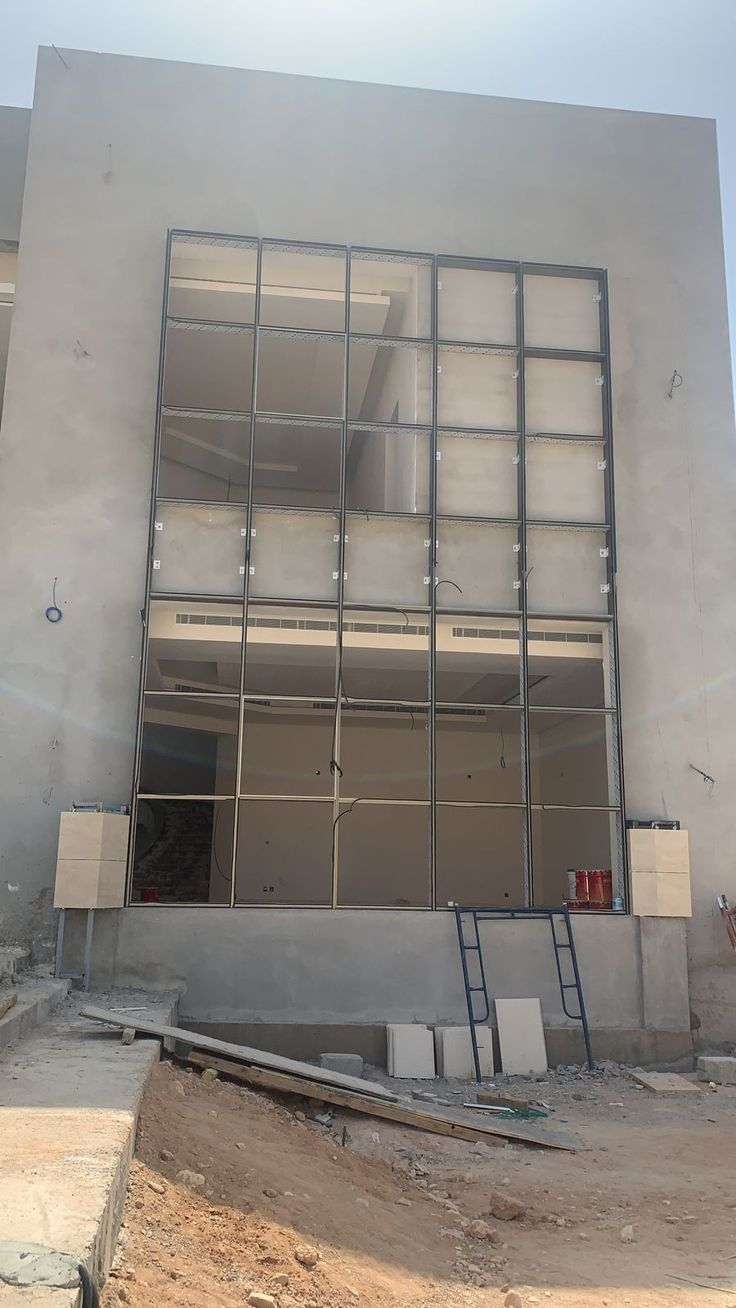glass panel: (132, 798, 234, 903), (235, 799, 332, 904), (139, 694, 237, 794), (336, 803, 430, 906), (531, 808, 622, 910), (145, 600, 241, 693), (436, 805, 523, 907), (240, 701, 333, 795), (244, 603, 335, 697), (529, 708, 616, 806), (152, 503, 245, 594), (339, 705, 428, 799), (158, 411, 249, 502), (436, 705, 520, 803), (162, 323, 252, 411), (249, 509, 337, 599), (341, 610, 428, 701), (253, 418, 340, 506), (167, 236, 256, 322), (257, 330, 344, 417), (345, 515, 428, 605), (528, 619, 612, 707), (435, 614, 518, 703), (260, 245, 345, 331), (436, 520, 518, 609), (348, 337, 431, 424), (345, 427, 428, 513), (350, 252, 431, 336), (527, 527, 607, 612), (437, 432, 516, 516), (437, 346, 516, 430), (526, 439, 605, 522), (437, 266, 515, 343), (524, 358, 601, 436), (523, 274, 599, 350)
